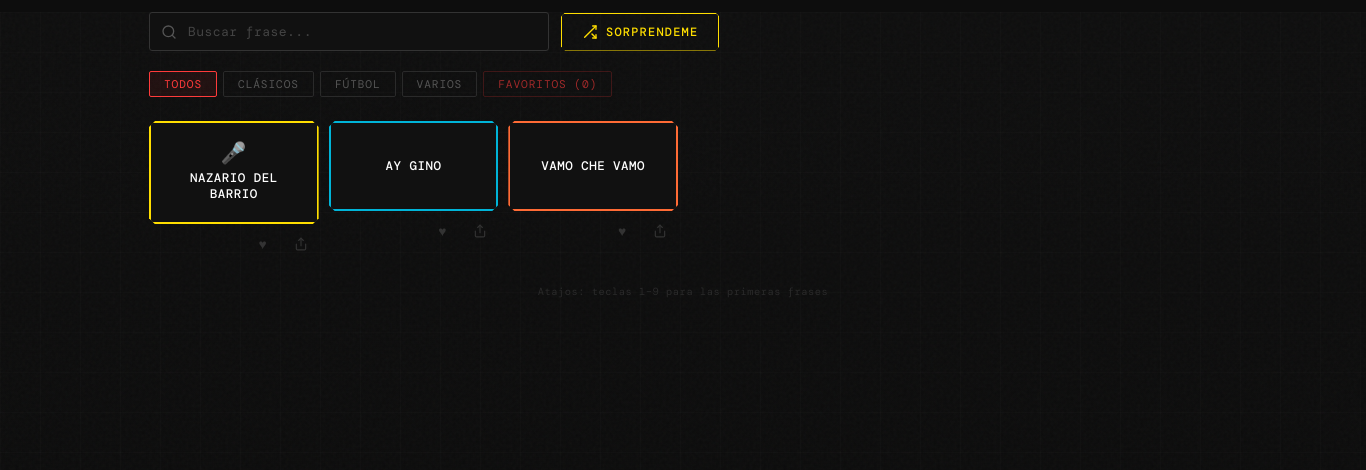
Test case: Soundboard › filtro de búsqueda oculta botones no coincidentes
Type "gino" into the search field labelled "Buscar frase..." at (349,32), box [149,12,549,51]
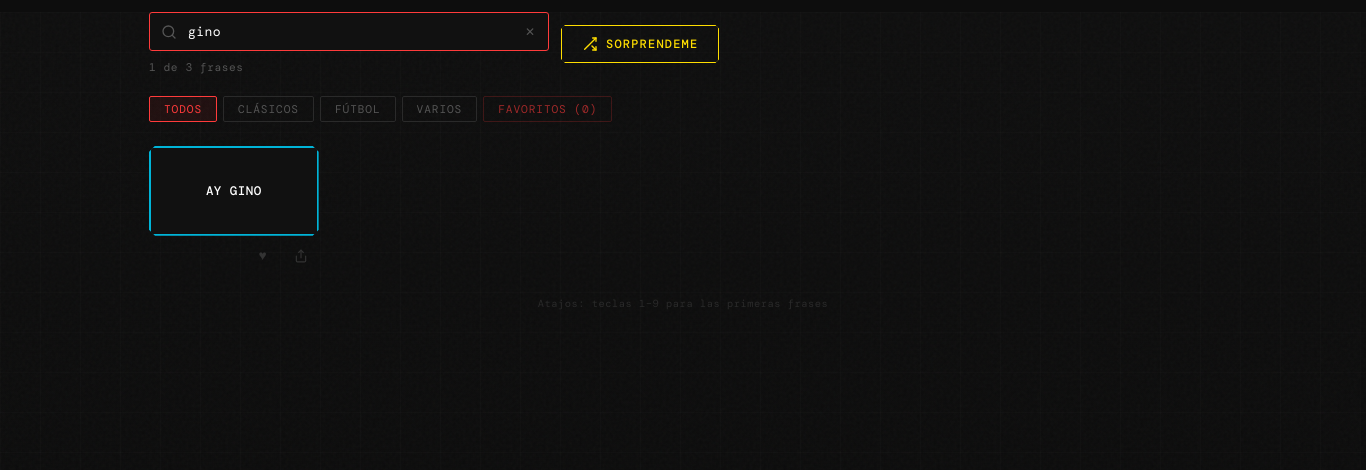
Expected: the text "Ay Gino" is shown, [206,183,262,199]
Expected: the button "Nazario del barrio" is gone
Expected: the button "Vamo Che Vamo" is gone
